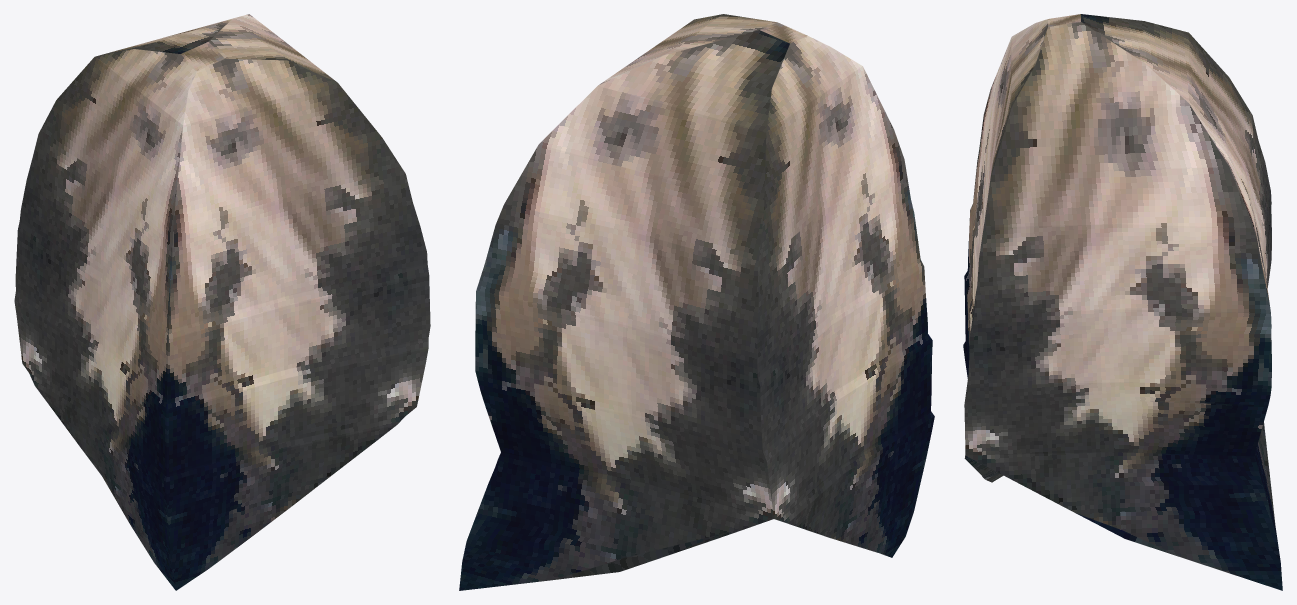
3 views of the same model, side by side, from view 1: azimuth 30°, elevation 25°; view 2: azimuth 150°, elevation 25°; view 3: azimuth 270°, elevation 25° (orthographic). The views are drawn at different scales.
Parts seen in each view (by area): view 1: SPLICE_2; view 2: SPLICE_2; view 3: SPLICE_2.
Boxes of the visible parts, x1,y1,x2,y2 form: SPLICE_2: (14, 14, 430, 590); SPLICE_2: (459, 14, 934, 590); SPLICE_2: (963, 14, 1282, 590).
Bounding box in the file's own units: 1.06 × 1.83 × 1.06.
1 material, 1 textured.
